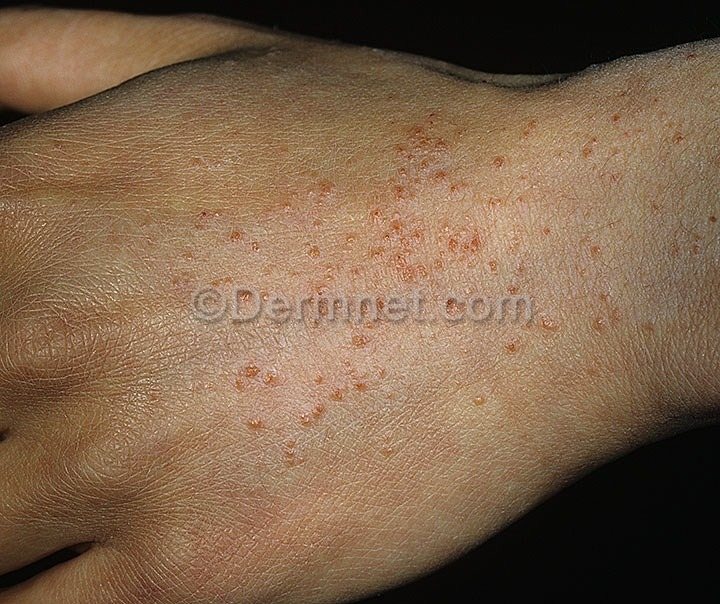Melasma: (343, 3, 479, 183)
